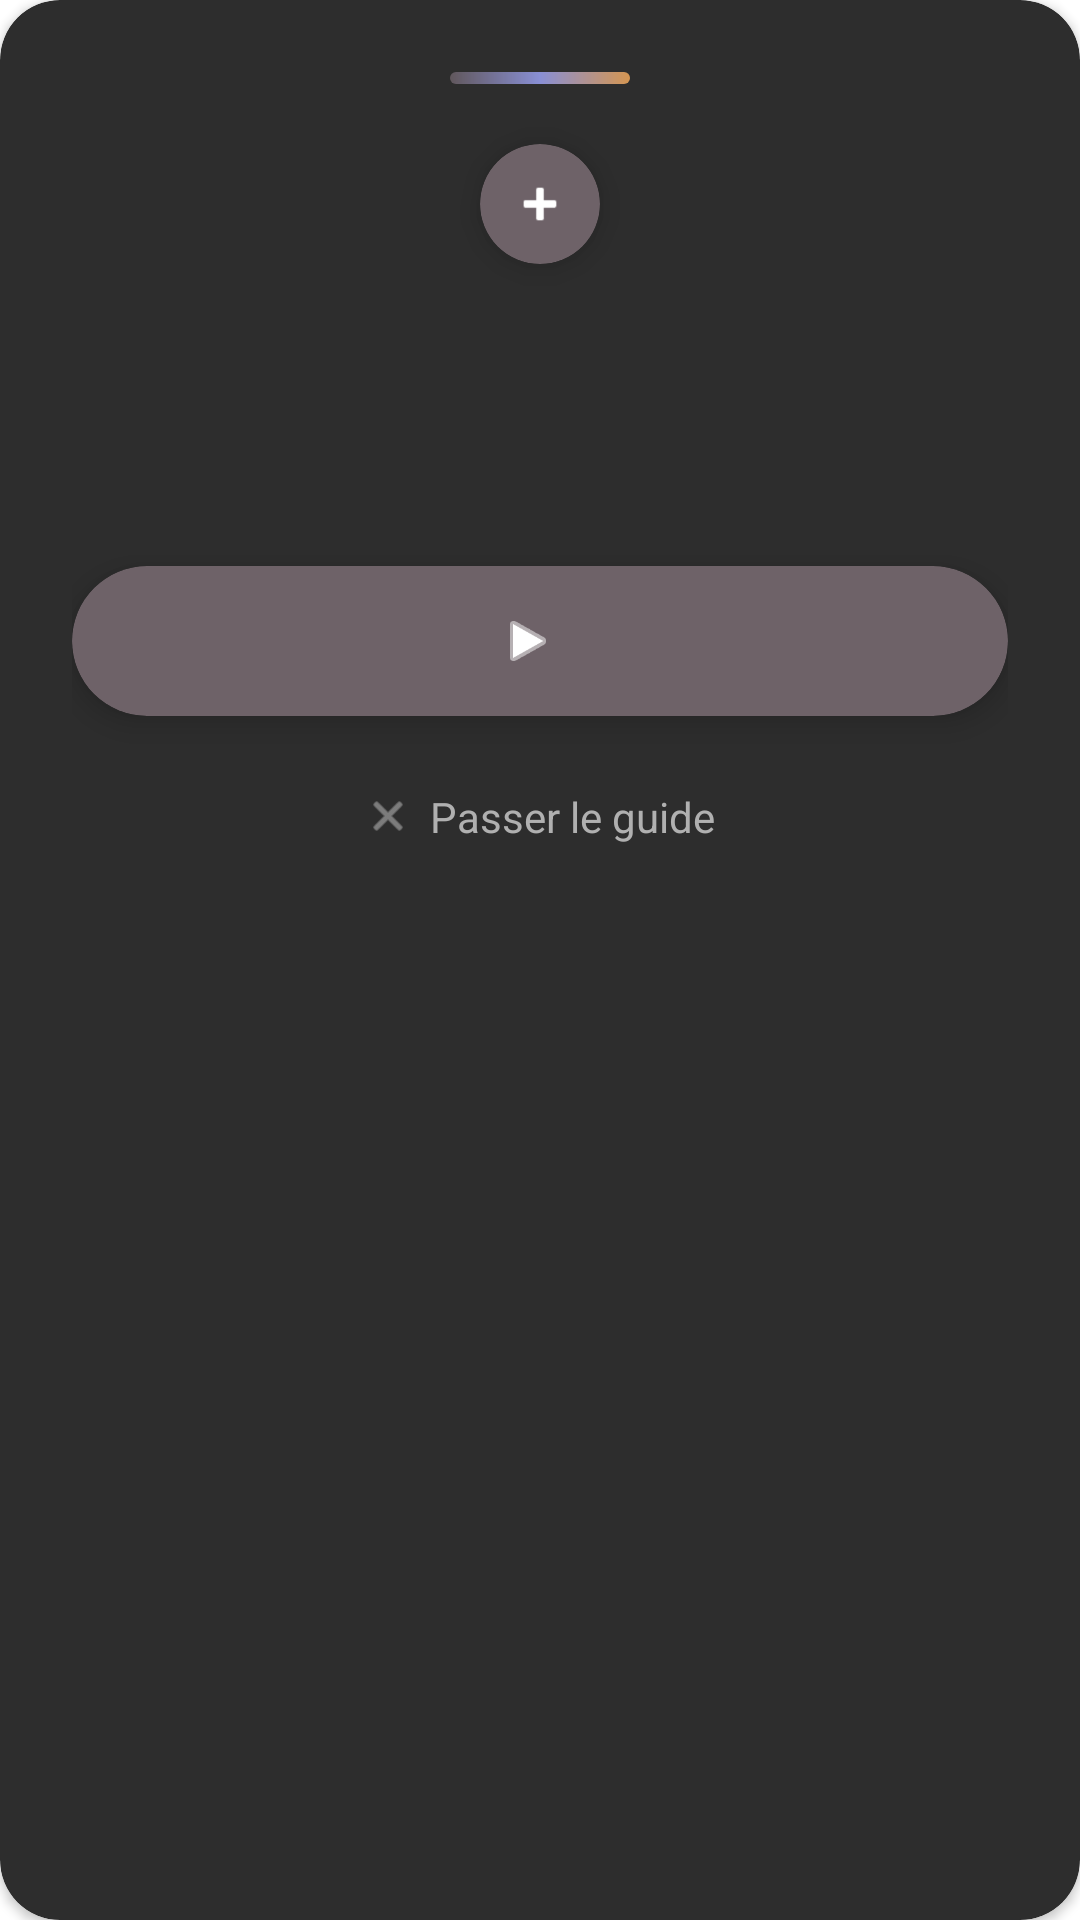

Named icons in this screenshot (1080x1920) and their centers, (x=x, y=y):
Add product icon: (x=540, y=204)
Start icon: (x=528, y=641)
